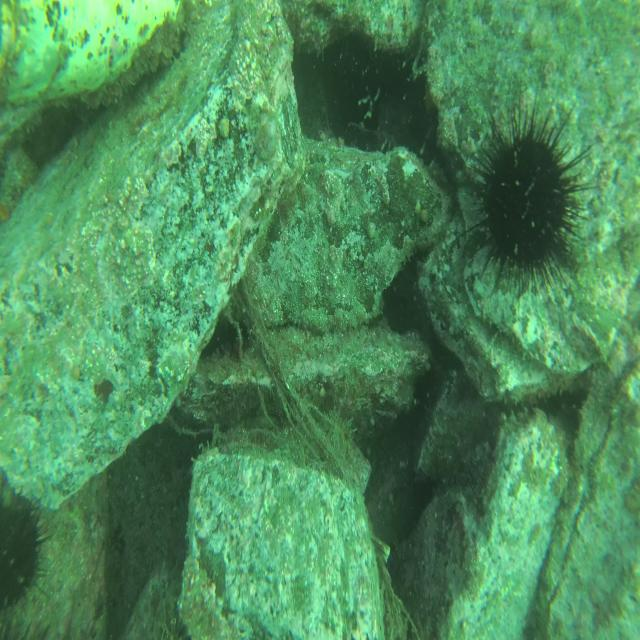echinus: (477, 114, 580, 296), (1, 500, 45, 612)
